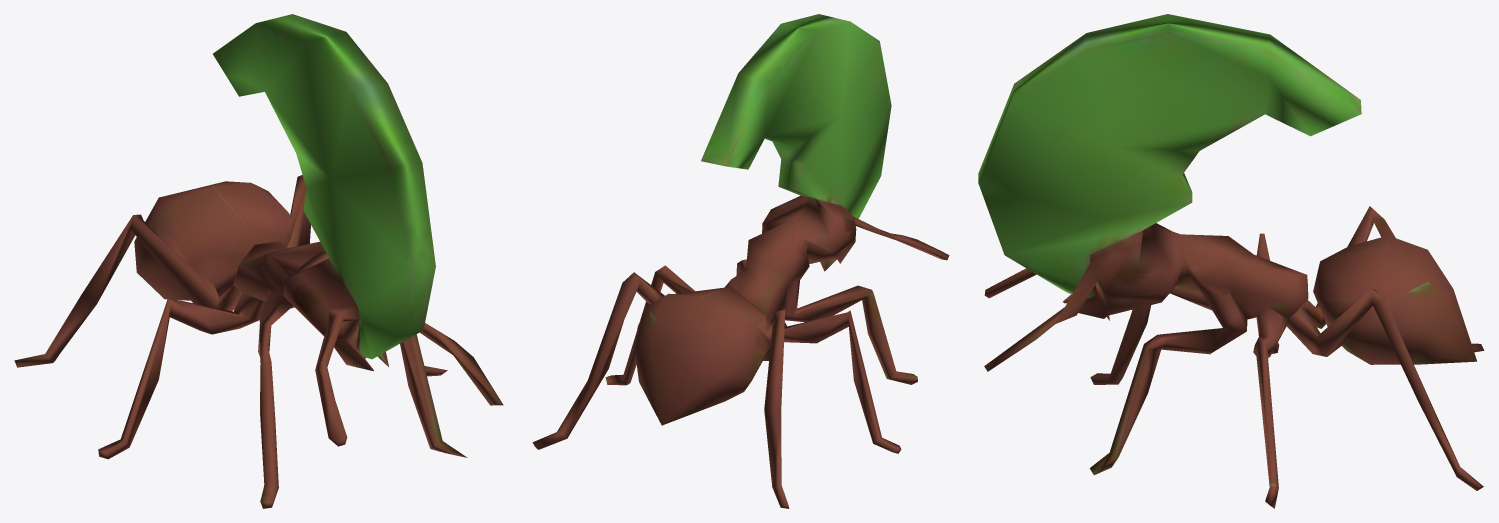
Rendered from leafcutter_ants-DVwIm3kT.glb.
3 views of the same model, side by side, from view 1: azimuth 30°, elevation 25°; view 2: azimuth 150°, elevation 25°; view 3: azimuth 270°, elevation 25° (orthographic). The views are drawn at different scales.
Visible parts, largest first — view 1: geom0; view 2: geom0; view 3: geom0.
Part boxes in pixels (x1,y1,x2,y2): geom0: (14, 14, 503, 508); geom0: (532, 14, 949, 508); geom0: (978, 14, 1484, 508).
Bounding box in the file's own units: 0.7673 × 0.8883 × 1.
Materials: 1 (1 with a texture image).
